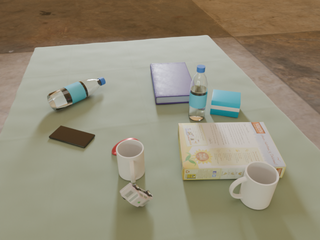book: (150, 62, 192, 104)
bottle: (47, 77, 105, 111), (189, 65, 208, 121)
box: (178, 122, 286, 180), (210, 90, 241, 118)
cup: (229, 161, 280, 209), (116, 139, 145, 183)
mouse: (112, 138, 139, 155)
phone: (49, 126, 95, 148)
toy_car: (120, 183, 153, 207)
